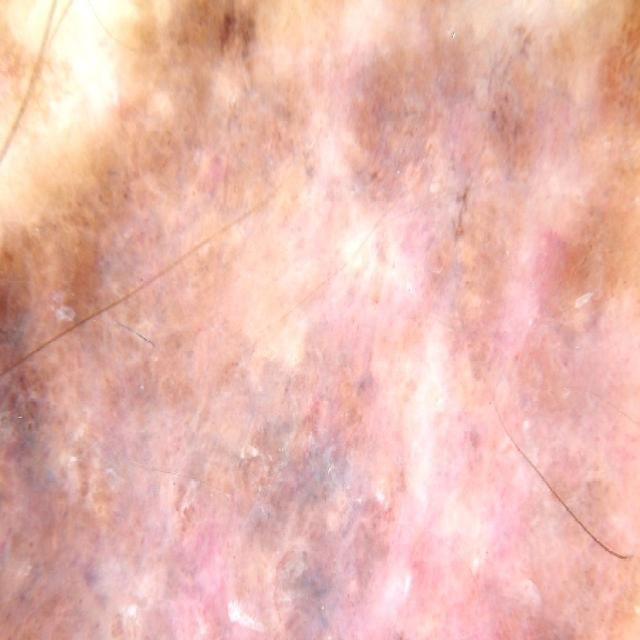Melanoma: (0, 30, 640, 640)
